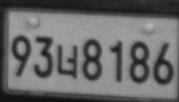1: (106, 40, 127, 83)
3: (33, 36, 54, 78)
6: (152, 42, 174, 85)
8: (128, 40, 150, 84), (81, 38, 103, 81)
9: (10, 34, 32, 76)
너: (56, 44, 78, 79)
